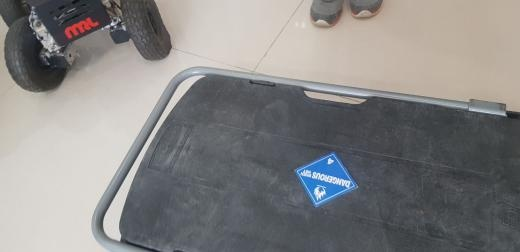Dangerous when wet: (294, 152, 358, 207)
